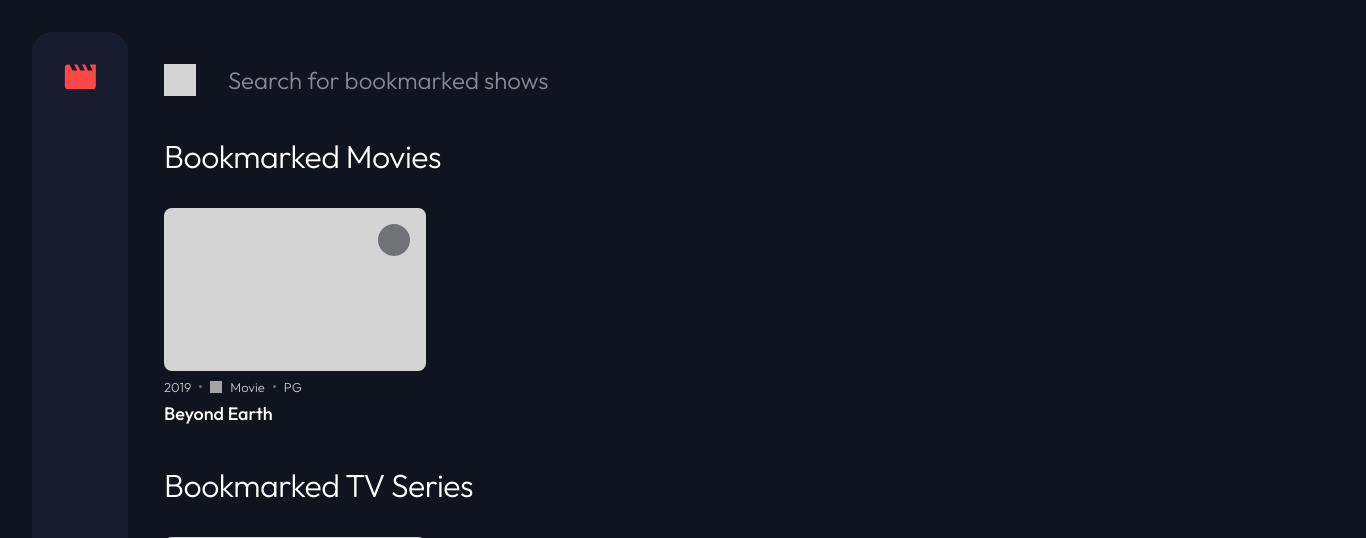
Scenario: Bookmarked page search › searches only bookmarked shows in one combined list
Expected: the element "Bookmarked Movies" is shown, [164,136,441,425]
Type "Beyond" into the search field labelled "Search for bookmarked shows" at [779, 80], box [228,64,1330,96]
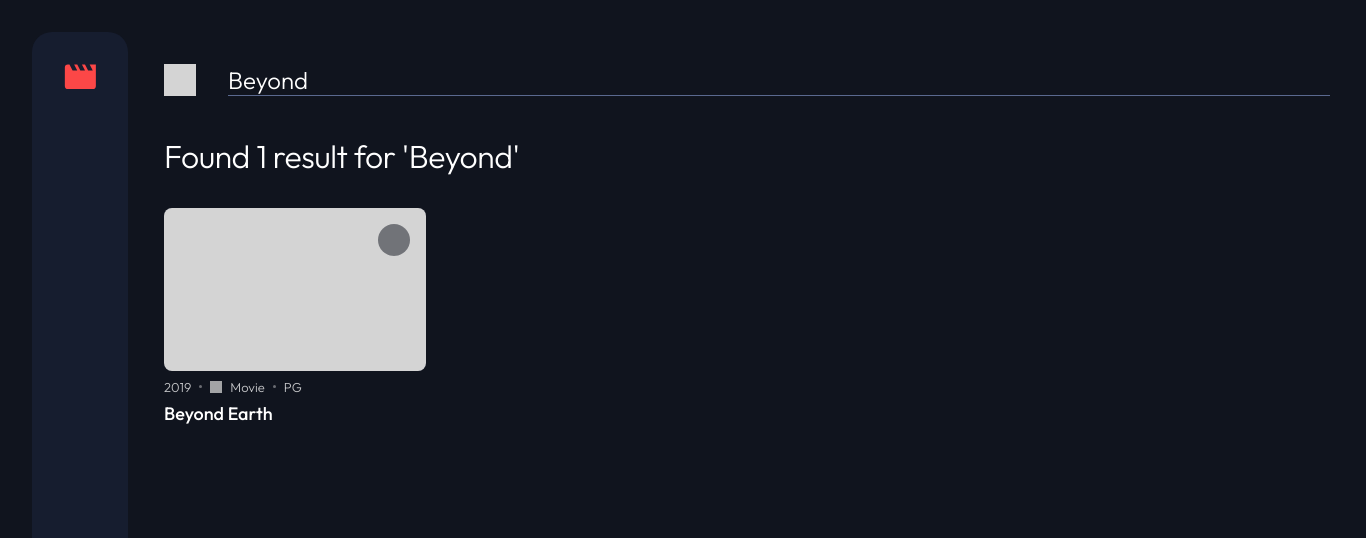
Expected: the element "Beyond Earth" is shown, [164,208,426,425]
Now the heading "Found 1 result for 'Beyond'" is shown, box [164,136,519,176]
Now the heading "Bookmarked Movies" is gone
Click the button named "Remove Beyond Earth from bookmarks" below "Found 1 result for 'Beyond'" at [394, 240], box [378,224,410,256]
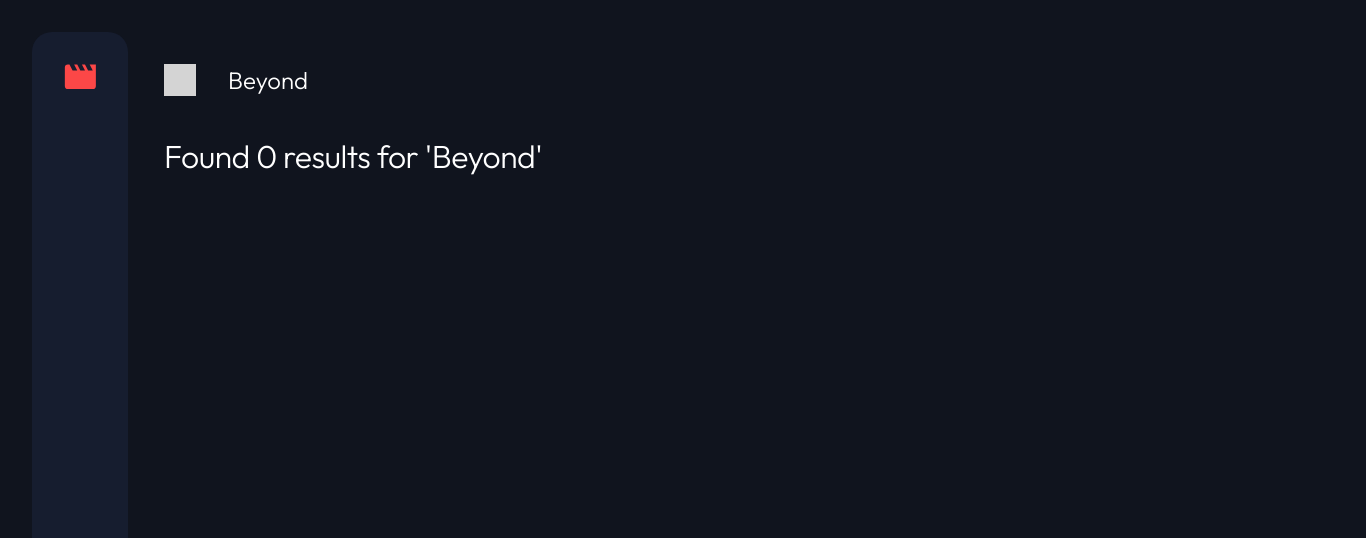
Now the heading "Found 0 results for 'Beyond'" is shown, box [164,136,542,176]
